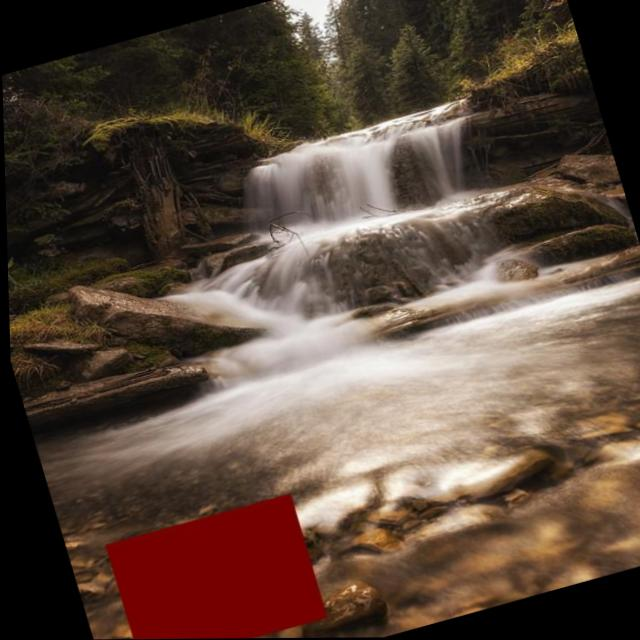RedSquare: (90, 486, 331, 640)
